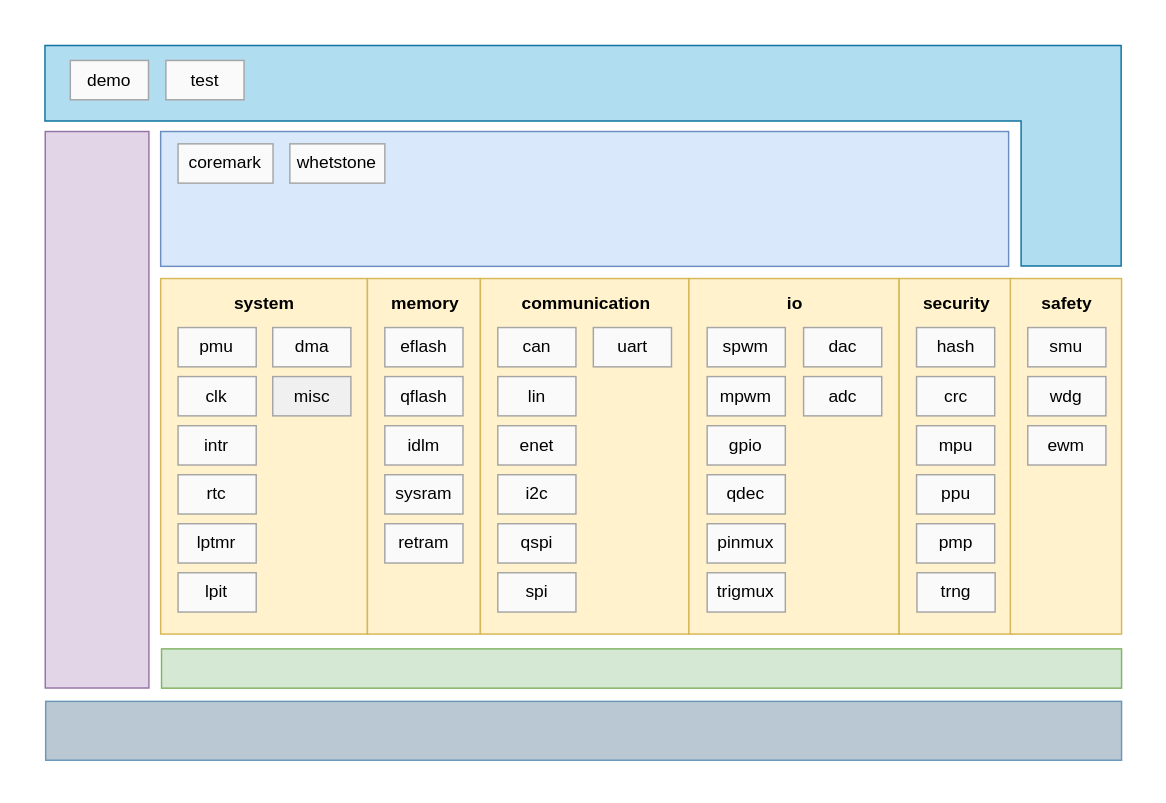
Some shapes in this 1166 by 803 pixel diagram are drawn without their labels. Here are the shapes that lost their labels. From the top down, the centre of each, then its label:
At [96,409]: "rt-thread rt-thread-nano ...".
At [641,667]: "register header".
At [583,730]: "hardware".
